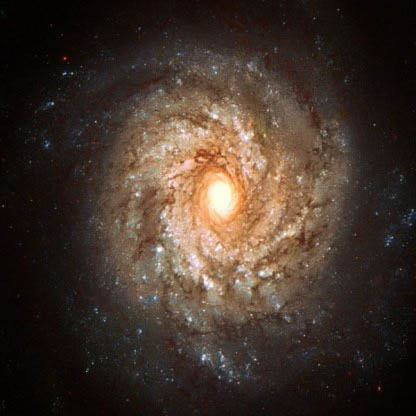NGC 3982: (50, 39, 366, 384)
